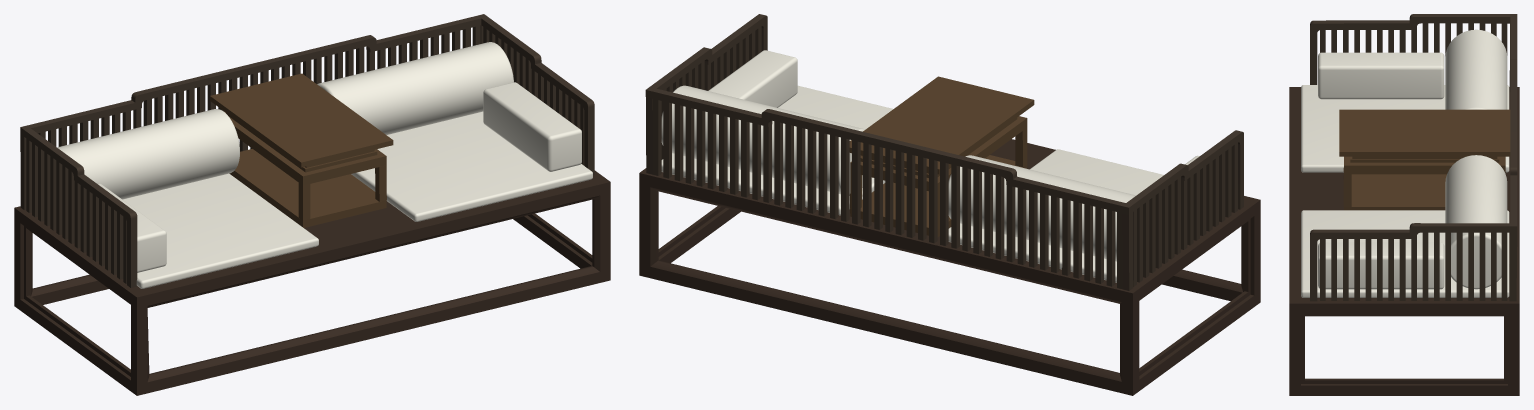
File: sofa.glb
The picture shows the model from 3 angles, left to right: view 1: azimuth 30°, elevation 25°; view 2: azimuth 150°, elevation 25°; view 3: azimuth 270°, elevation 25°; orthographic projection. The views are drawn at different scales.
Parts seen in each view (by area): view 1: Box002, Line001, ChamferBox001 (×2), ChamferCyl001 (×2), Rectangle001, ChamferBox002 (×2), Box005; view 2: Line001, Box002, Rectangle001, ChamferCyl001 (×2), ChamferBox001 (×2), ChamferBox002, Box005; view 3: Line001, Box002, Rectangle001, ChamferCyl001 (×2), ChamferBox001 (×2), ChamferBox002 (×2), Box005, Box009.
Part boxes in pixels (x1=…): Box002: x1=14, y1=170, x2=610, y2=395; Line001: x1=20, y1=14, x2=594, y2=287; ChamferBox001 (×2): x1=122, y1=111, x2=592, y2=288; ChamferCyl001 (×2): x1=57, y1=42, x2=513, y2=199; Rectangle001: x1=210, y1=73, x2=393, y2=227; ChamferBox002 (×2): x1=98, y1=82, x2=581, y2=272; Box005: x1=20, y1=25, x2=483, y2=210; Line001: x1=645, y1=14, x2=1243, y2=288; Box002: x1=639, y1=139, x2=1260, y2=395; Rectangle001: x1=849, y1=76, x2=1034, y2=236; ChamferCyl001 (×2): x1=661, y1=85, x2=1135, y2=261; ChamferBox001 (×2): x1=661, y1=85, x2=1163, y2=282; ChamferBox002: x1=708, y1=50, x2=797, y2=107; Box005: x1=646, y1=97, x2=1133, y2=290; Line001: x1=1310, y1=14, x2=1517, y2=301; Box002: x1=1289, y1=87, x2=1519, y2=395; Rectangle001: x1=1339, y1=109, x2=1510, y2=210; ChamferCyl001 (×2): x1=1445, y1=29, x2=1507, y2=289; ChamferBox001 (×2): x1=1301, y1=85, x2=1509, y2=297; ChamferBox002 (×2): x1=1318, y1=52, x2=1444, y2=289; Box005: x1=1509, y1=23, x2=1517, y2=301; Box009: x1=1343, y1=174, x2=1351, y2=206.
Size of the model in its own units: 1.8 by 0.6737 by 0.8076.
